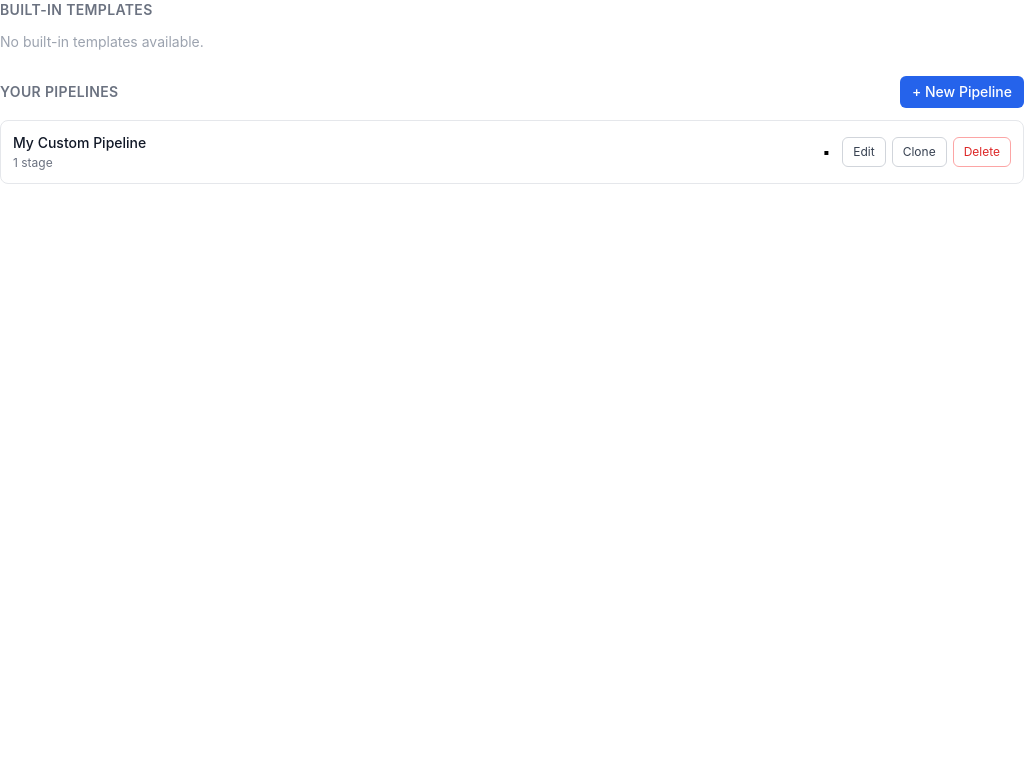
Test: PipelineLibrarySection — delete flow › shows singular reference warning when 1 project uses the pipeline
Step 1. Click the button "Delete" → click(982, 152), box [953, 137, 1011, 167]
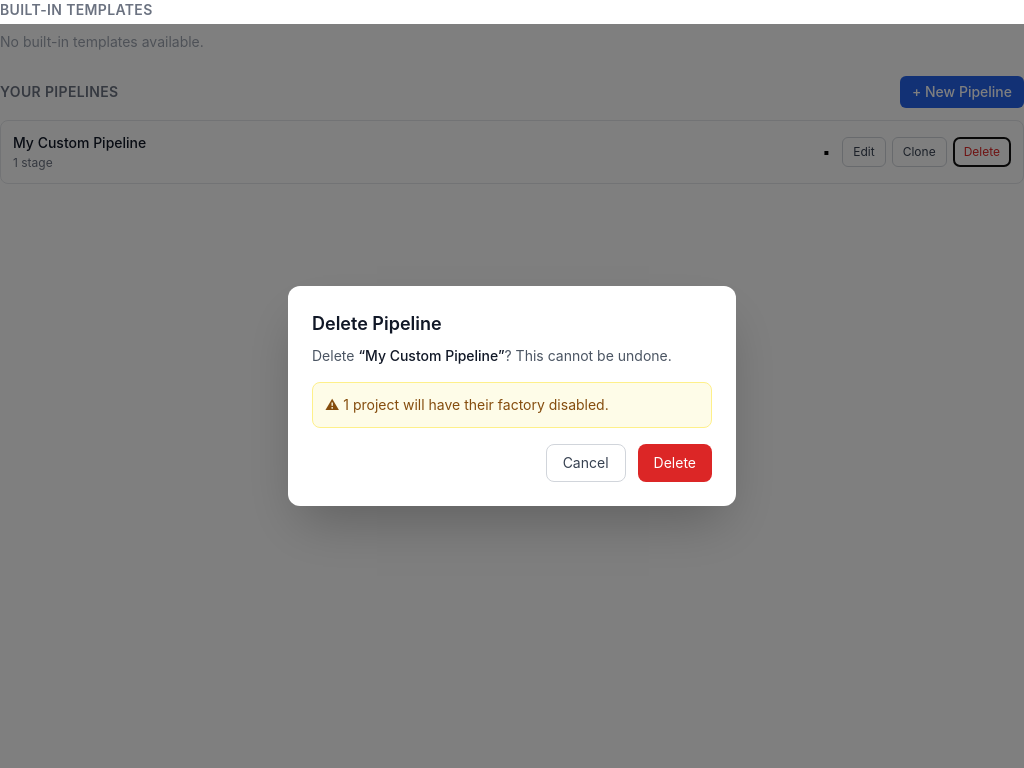
Expected: the text "⚠ 1 project will have their factory disabled." is shown, [312, 382, 712, 428]
